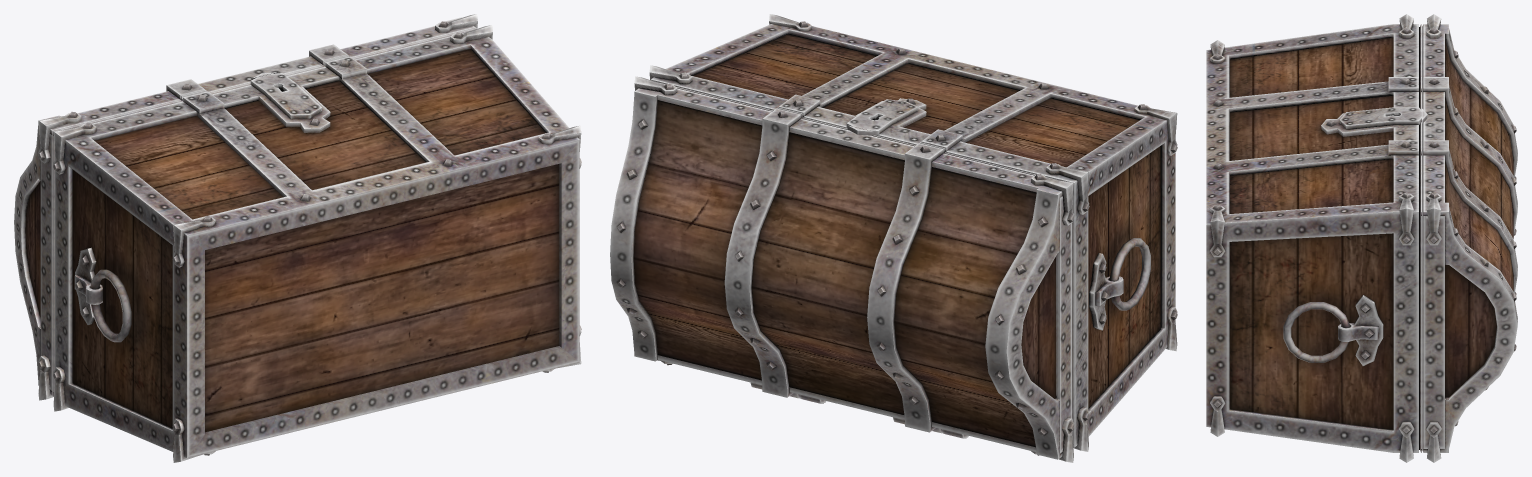
3 views of the same model, side by side, from view 1: azimuth 30°, elevation 25°; view 2: azimuth 150°, elevation 25°; view 3: azimuth 270°, elevation 25° (orthographic). The views are drawn at different scales.
Visible parts, largest first — view 1: chestDown, chestUp; view 2: chestUp, chestDown; view 3: chestDown, chestUp.
Part boxes in pixels (x1,y1,x2,y2): chestDown: (53, 25, 581, 462); chestUp: (14, 14, 477, 400); chestUp: (610, 76, 1074, 462); chestDown: (649, 14, 1177, 451); chestDown: (1206, 14, 1421, 462); chestUp: (1422, 14, 1517, 462).
Bounding box in the file's own units: 103 × 64.8 × 69.8.
